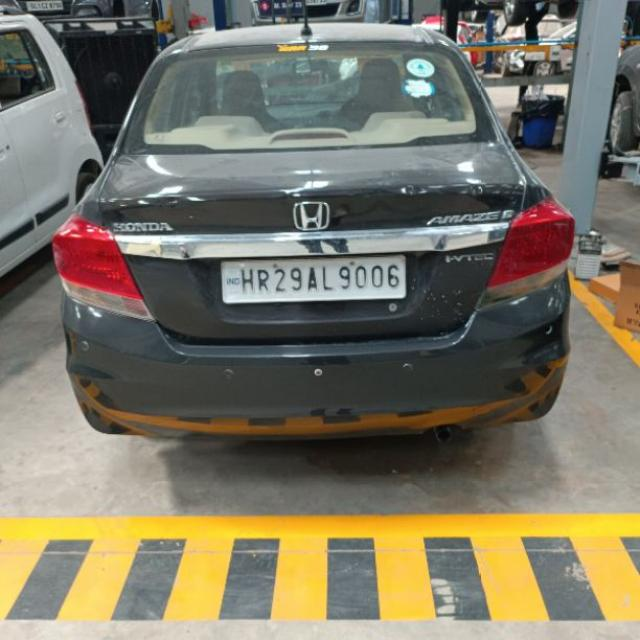license_plate: (218, 253, 406, 304)
